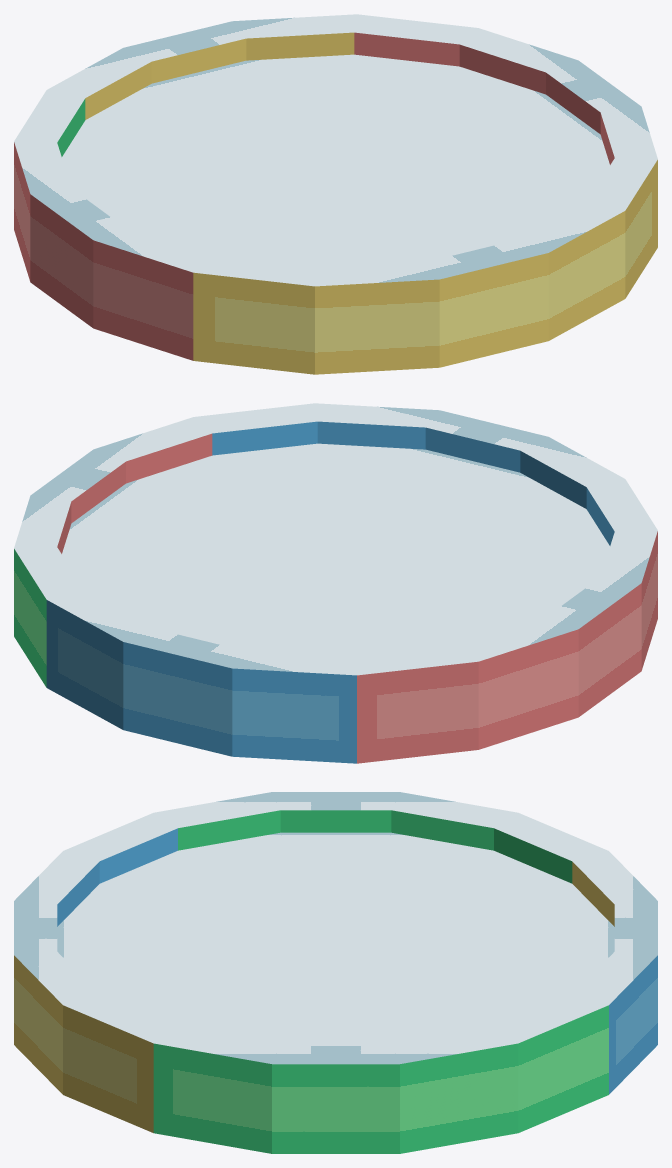
Rendered from coin.gltf.
3 views of the same model, one above another, from view 1: azimuth 30°, elevation 25°; view 2: azimuth 150°, elevation 25°; view 3: azimuth 270°, elevation 25° (orthographic).
Parts seen in each view (by area): view 1: tube, cylinder; view 2: tube, cylinder; view 3: tube, cylinder.
Boxes of the visible parts, x1=… form: tube: x1=14, y1=14, x2=657, y2=374; cylinder: x1=62, y1=54, x2=609, y2=267; tube: x1=14, y1=403, x2=657, y2=763; cylinder: x1=62, y1=443, x2=609, y2=656; tube: x1=14, y1=792, x2=657, y2=1153; cylinder: x1=57, y1=832, x2=614, y2=1045.
Bounding box in the file's own units: 0.8125 × 0.125 × 0.8125.
1 material, 1 textured.
